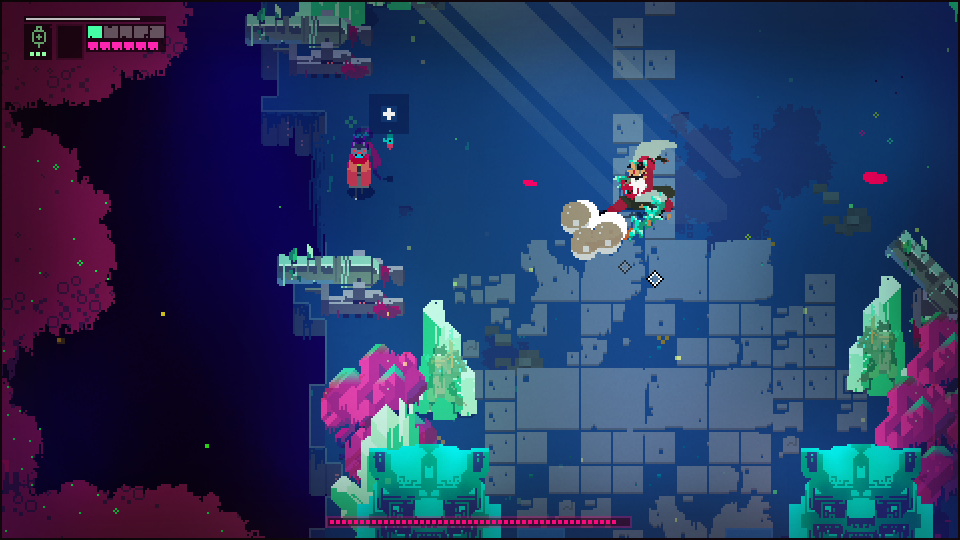hanged_man: (608, 133, 680, 244)
player: (340, 135, 375, 202)
